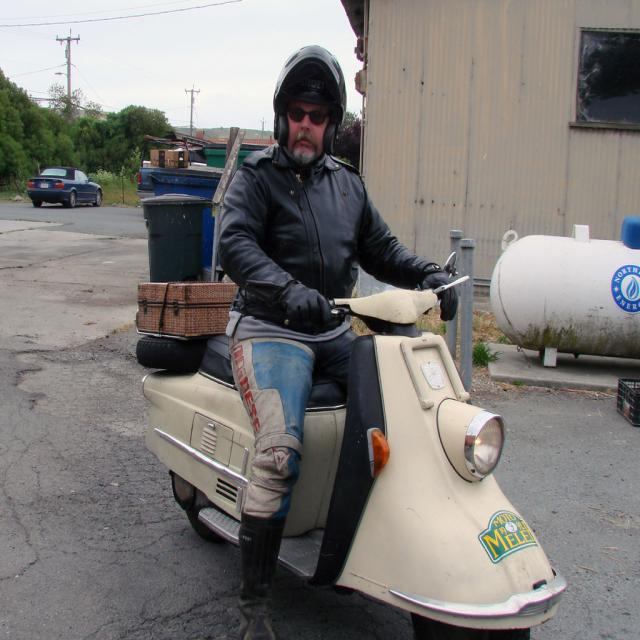other: (23, 163, 103, 210)
